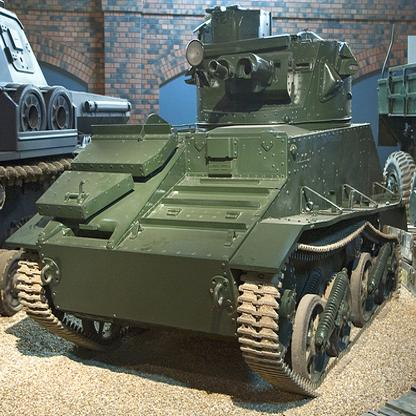Tank: (18, 10, 409, 399)
